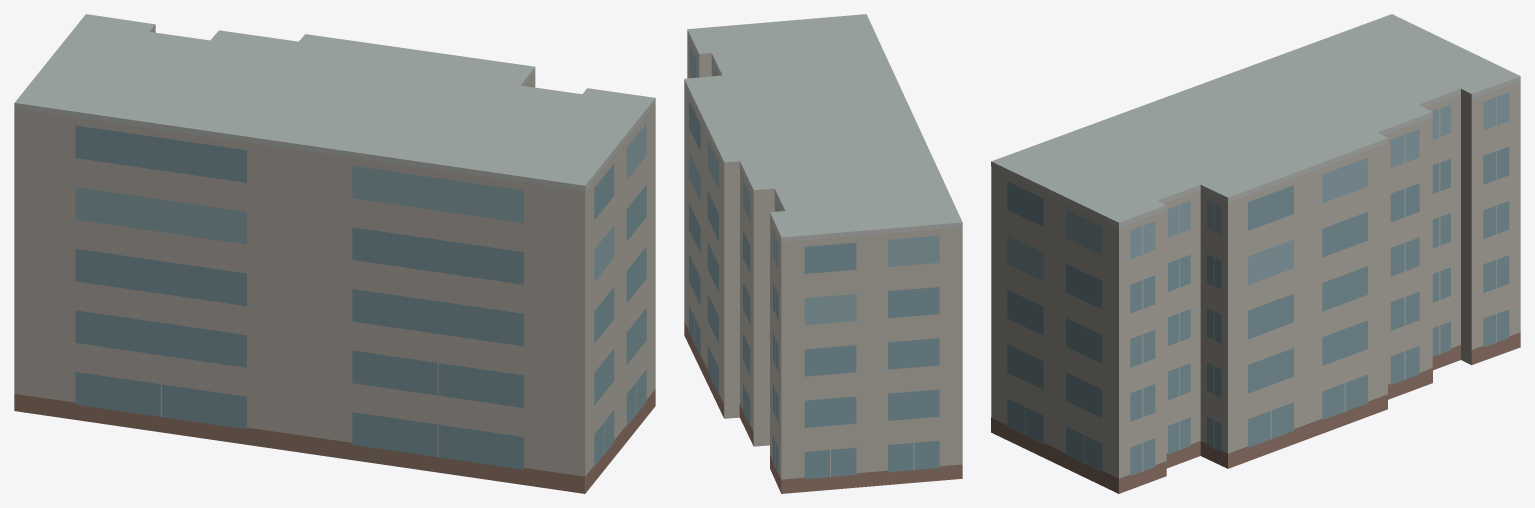
Rendered from survey-upis-33042503.glb.
3 renders of one model, left to right at view 1: azimuth 30°, elevation 25°; view 2: azimuth 150°, elevation 25°; view 3: azimuth 270°, elevation 25°, orthographic. The views are drawn at different scales.
Visible parts, largest first — view 1: survey-upis-33042503.tmp; view 2: survey-upis-33042503.tmp; view 3: survey-upis-33042503.tmp.
Part boxes in pixels (x1,y1,x2,y2): survey-upis-33042503.tmp: [14, 14, 655, 493]; survey-upis-33042503.tmp: [684, 14, 962, 493]; survey-upis-33042503.tmp: [991, 14, 1520, 493].
Size of the model in its own units: 21.96 by 13.3 by 23.54.
